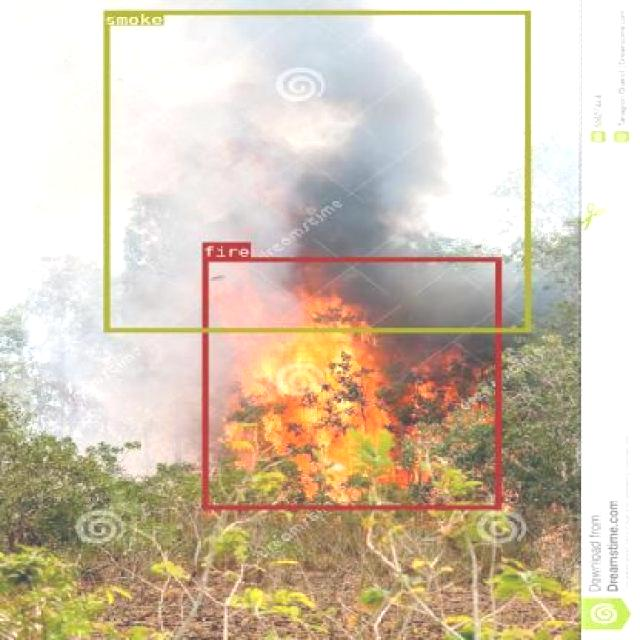fire: (202, 257, 500, 508)
smoke: (103, 10, 529, 332)
